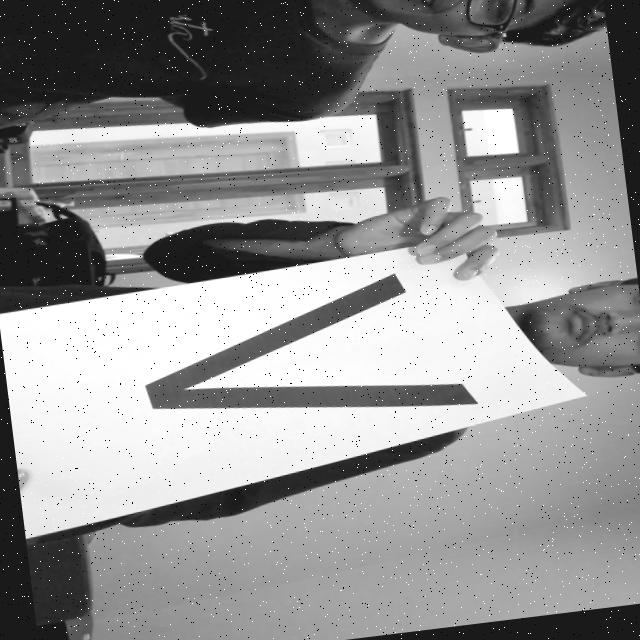v: (124, 235, 506, 492)
